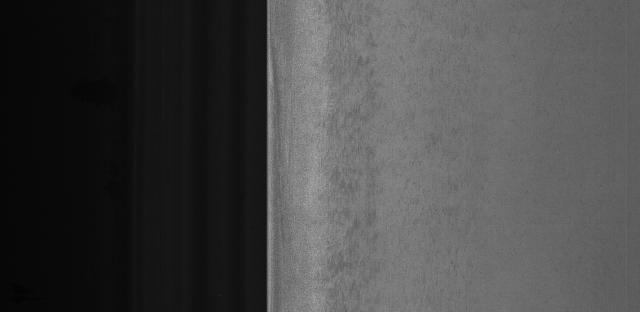silk_spot: (327, 32, 388, 295)
